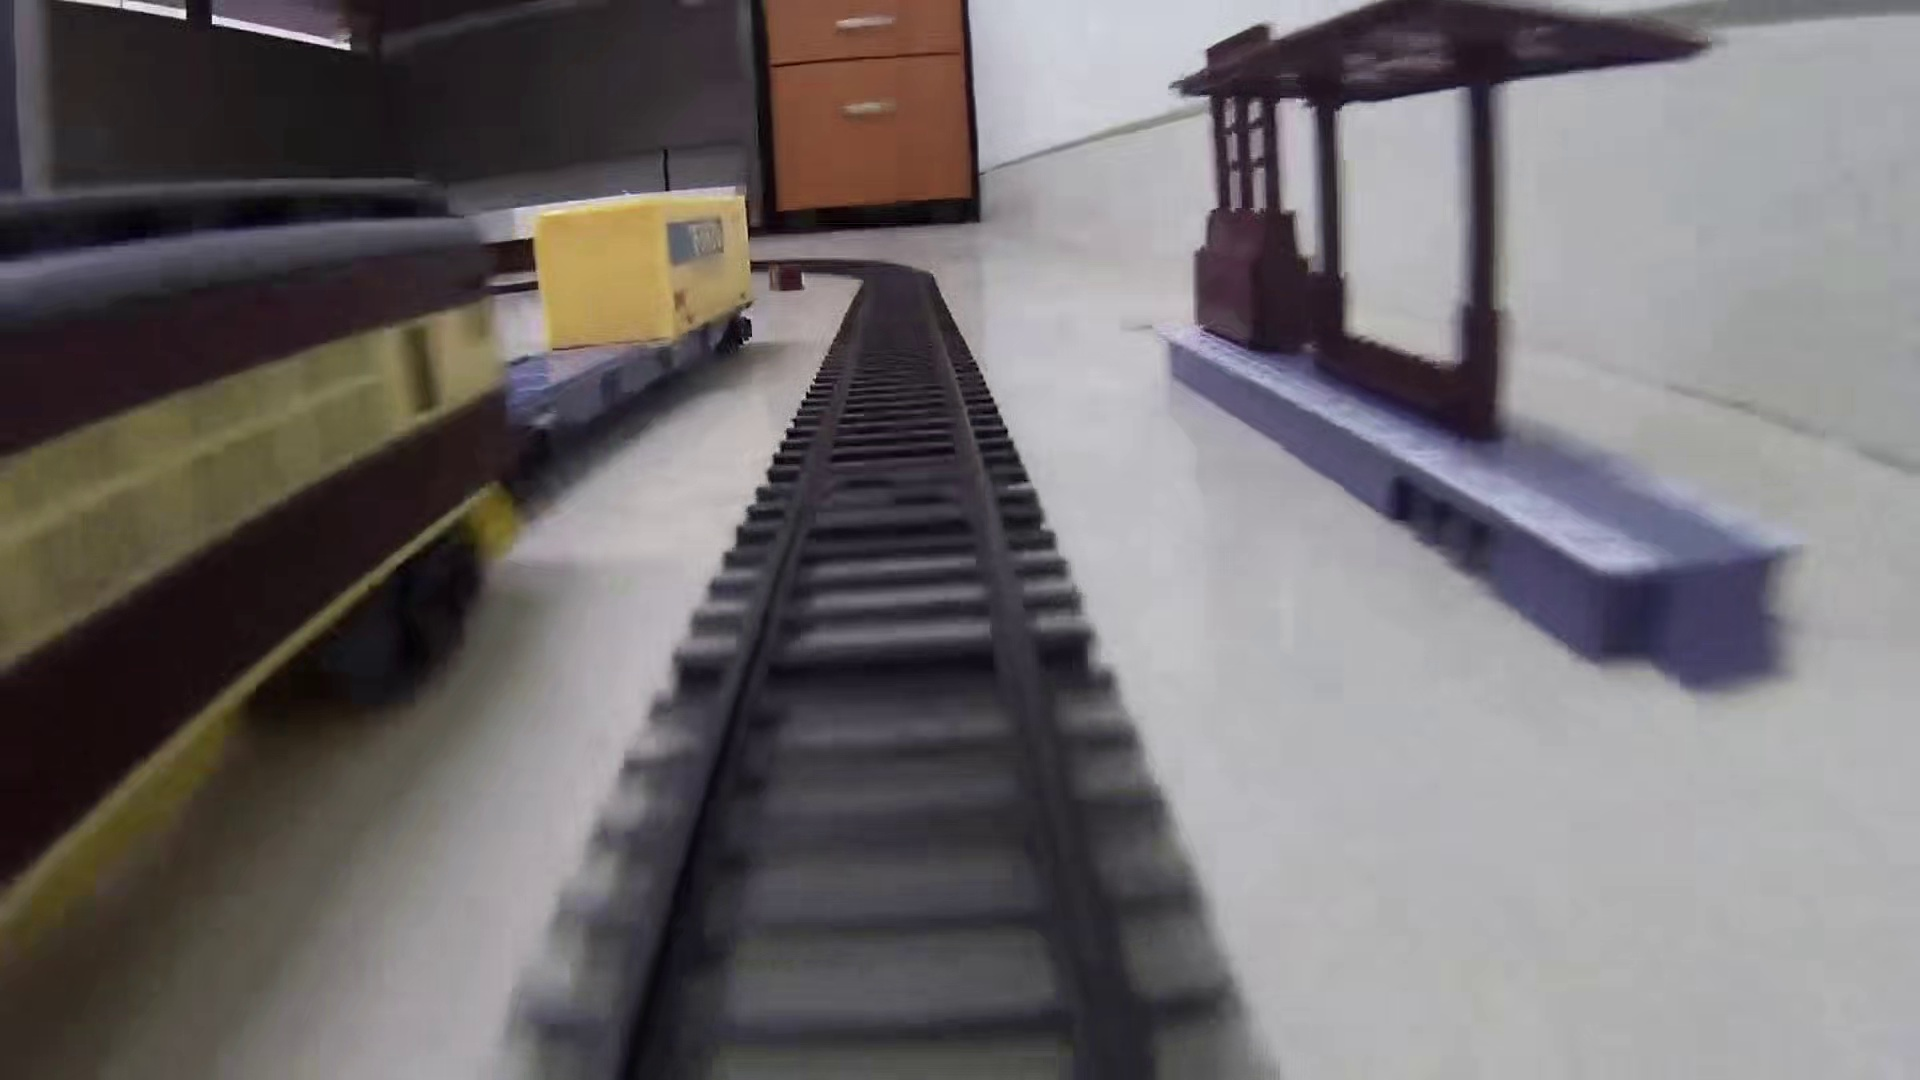box: (765, 261, 808, 293)
